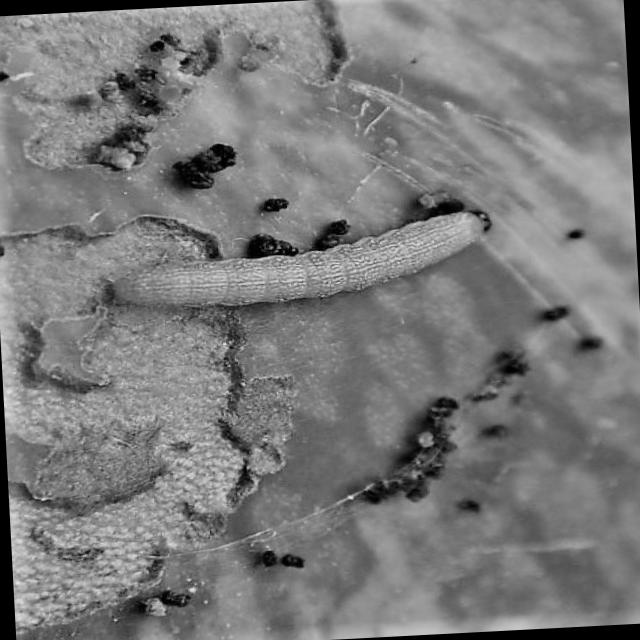Armyworm: (94, 196, 525, 330)
